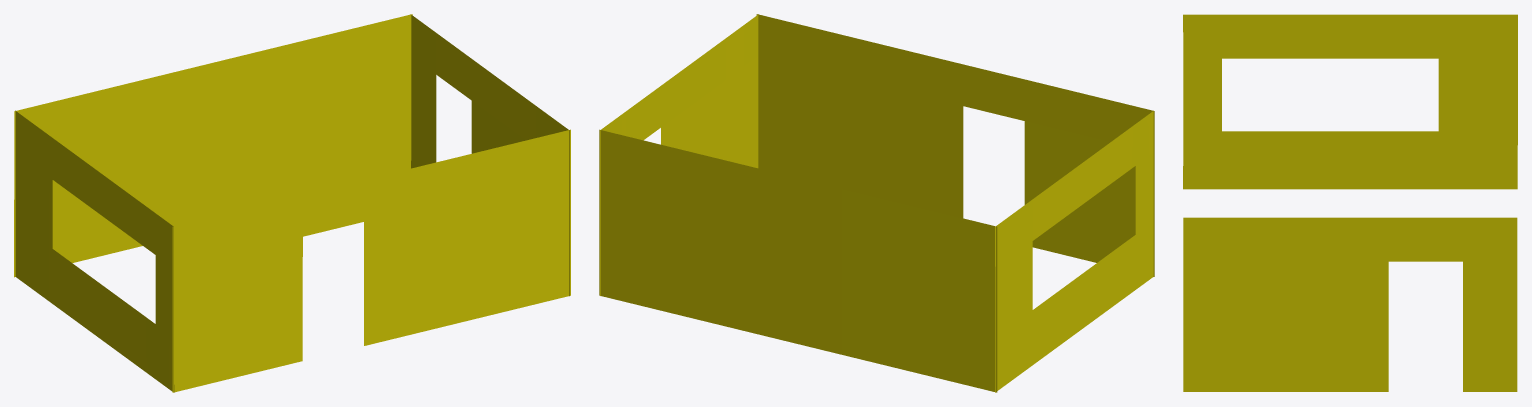
3 renders of one model, left to right at view 1: azimuth 30°, elevation 25°; view 2: azimuth 150°, elevation 25°; view 3: azimuth 270°, elevation 25°, orthographic. The views are drawn at different scales.
Parts seen in each view (by area): view 1: BH03_WP_03; view 2: BH03_WP_03; view 3: BH03_WP_03.
Part boxes in pixels (bbox=[...]): BH03_WP_03: bbox=[14, 14, 570, 392]; BH03_WP_03: bbox=[599, 14, 1154, 392]; BH03_WP_03: bbox=[1183, 14, 1517, 391].
Size of the model in its own units: 754 by 300 by 522.
